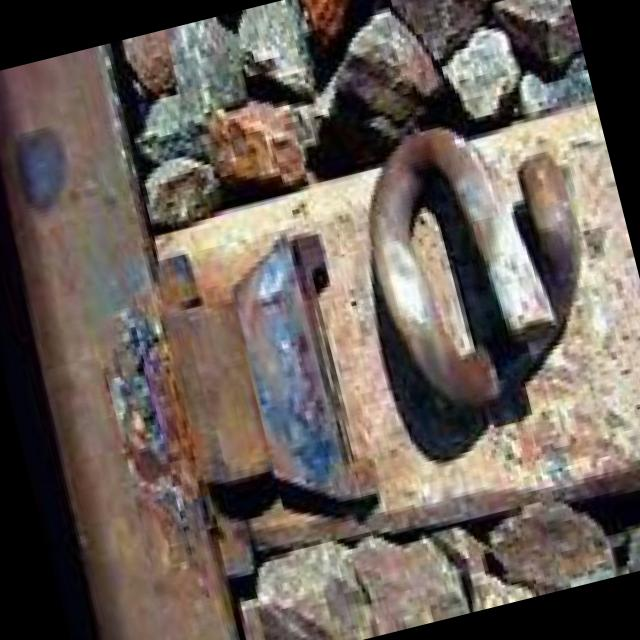defective: (0, 73, 416, 640)
